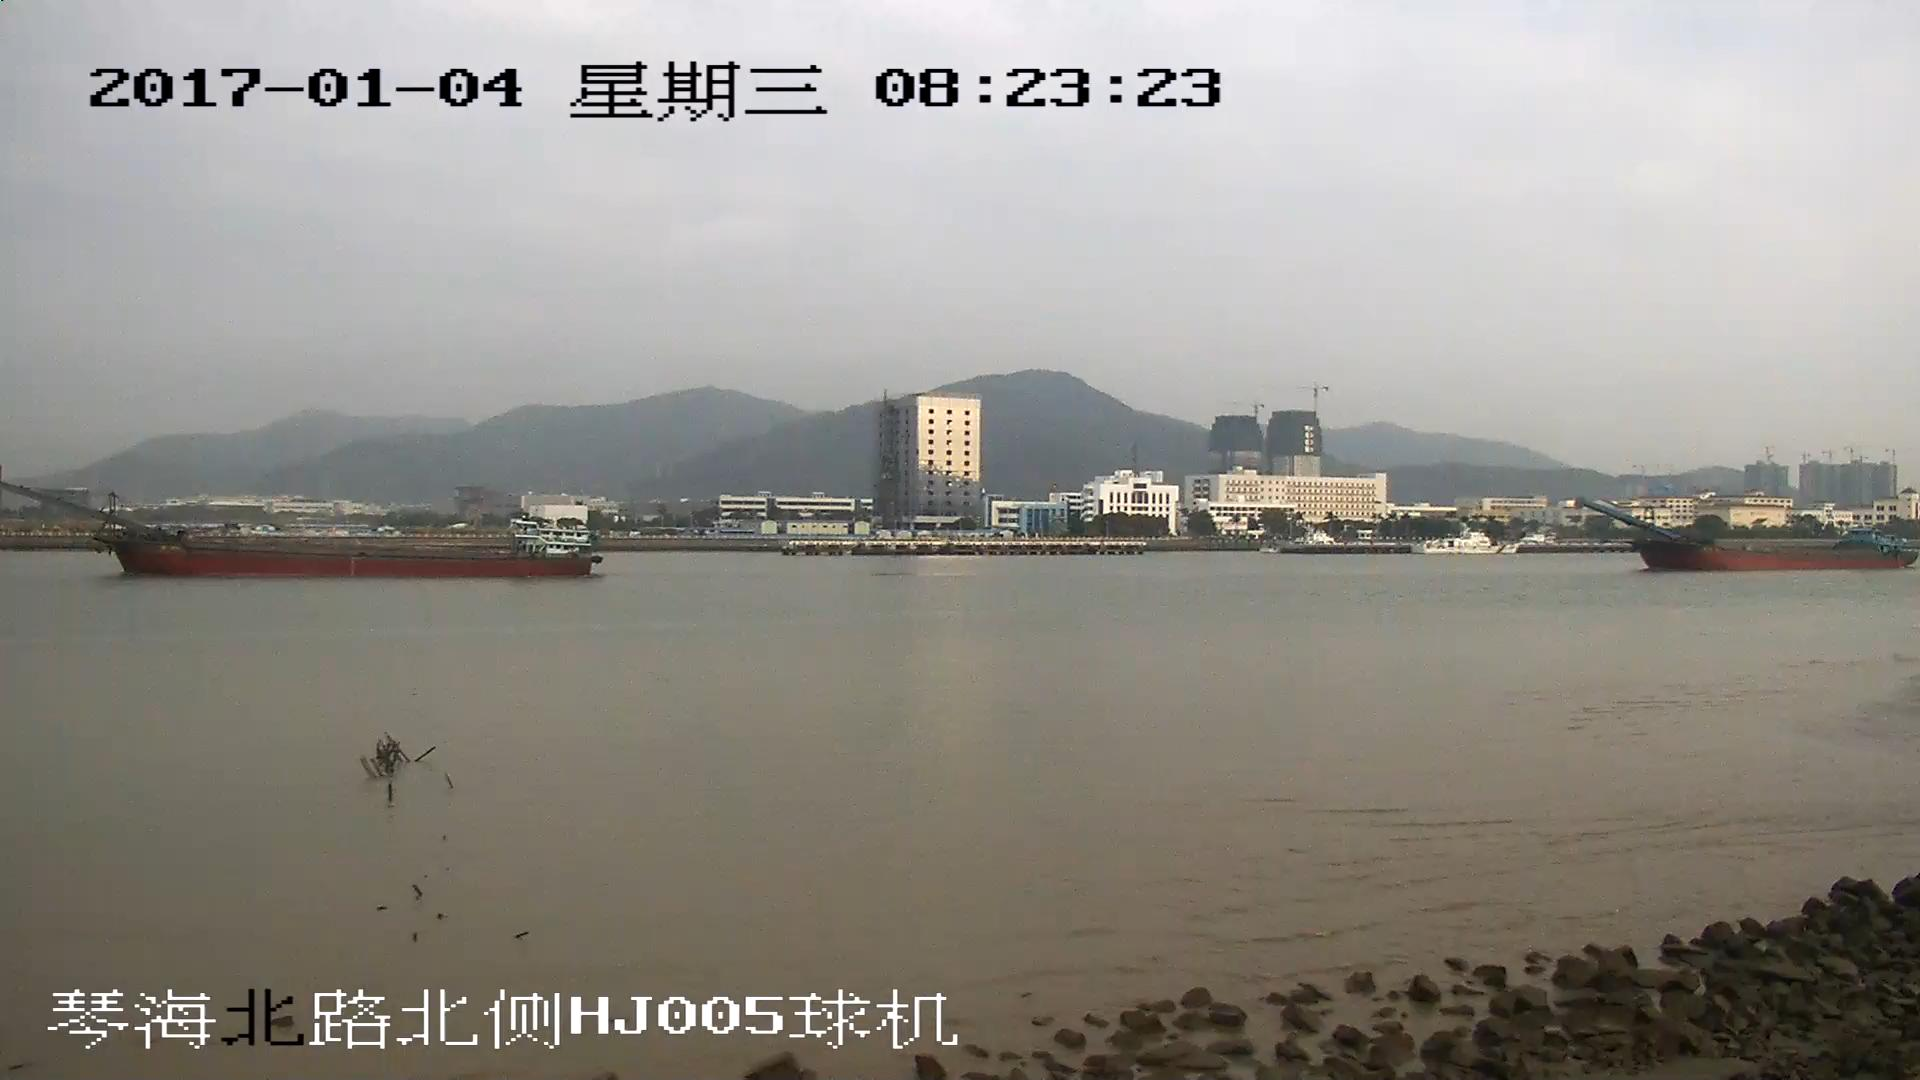bulk cargo carrier: (1, 484, 601, 577), (1579, 498, 1920, 570)
